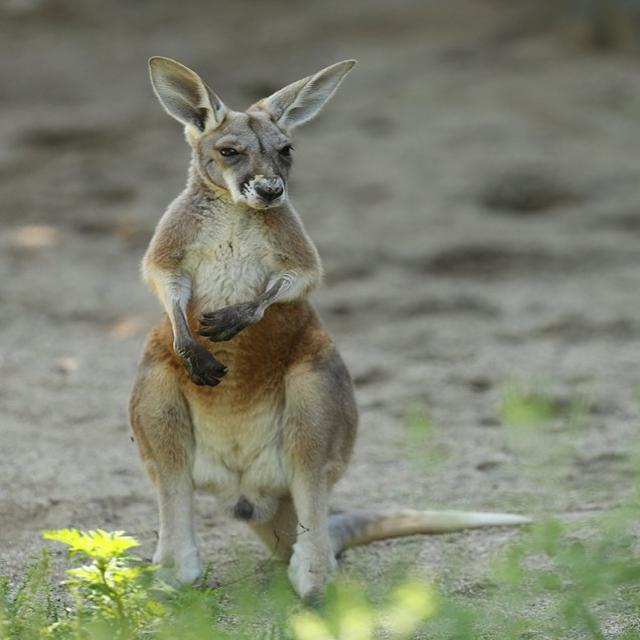Kangaroo: (97, 34, 547, 600)
